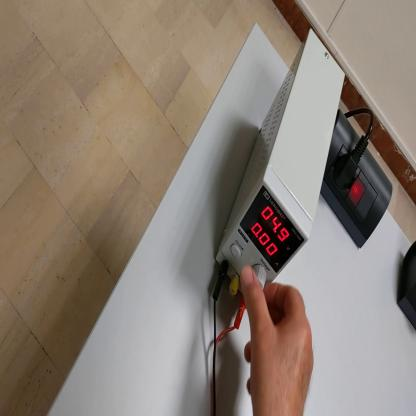hand: (241, 264, 315, 416)
power supply: (215, 29, 345, 298)
socket: (320, 114, 393, 253), (398, 241, 416, 332)
